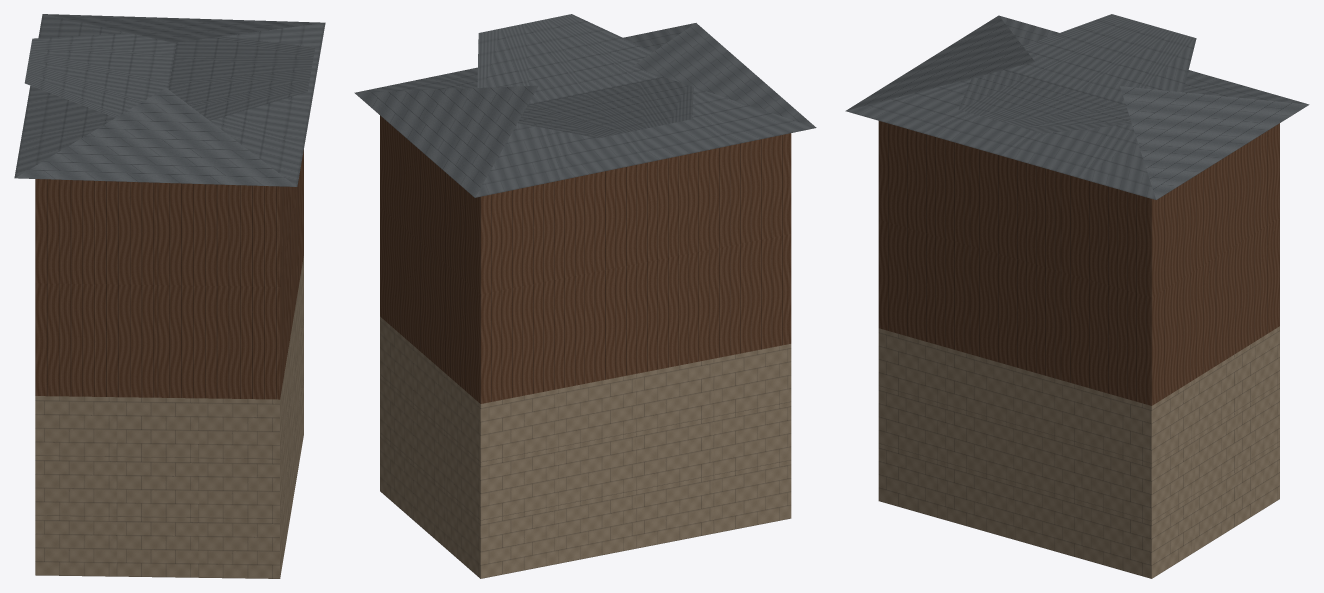
Rendered from bld_c5_26_475.gltf.
The picture shows the model from 3 angles, left to right: view 1: azimuth 30°, elevation 25°; view 2: azimuth 150°, elevation 25°; view 3: azimuth 270°, elevation 25°; orthographic projection. The views are drawn at different scales.
Visible parts, largest first — view 1: bld_c5_26_475; view 2: bld_c5_26_475; view 3: bld_c5_26_475.
Part boxes in pixels (<box>): bld_c5_26_475: <box>14,14,325,578</box>; bld_c5_26_475: <box>354,14,816,578</box>; bld_c5_26_475: <box>845,14,1309,578</box>.
Size of the model in its own units: 11.69 by 12.5 by 12.41.
Materials: 3 (3 with a texture image).
